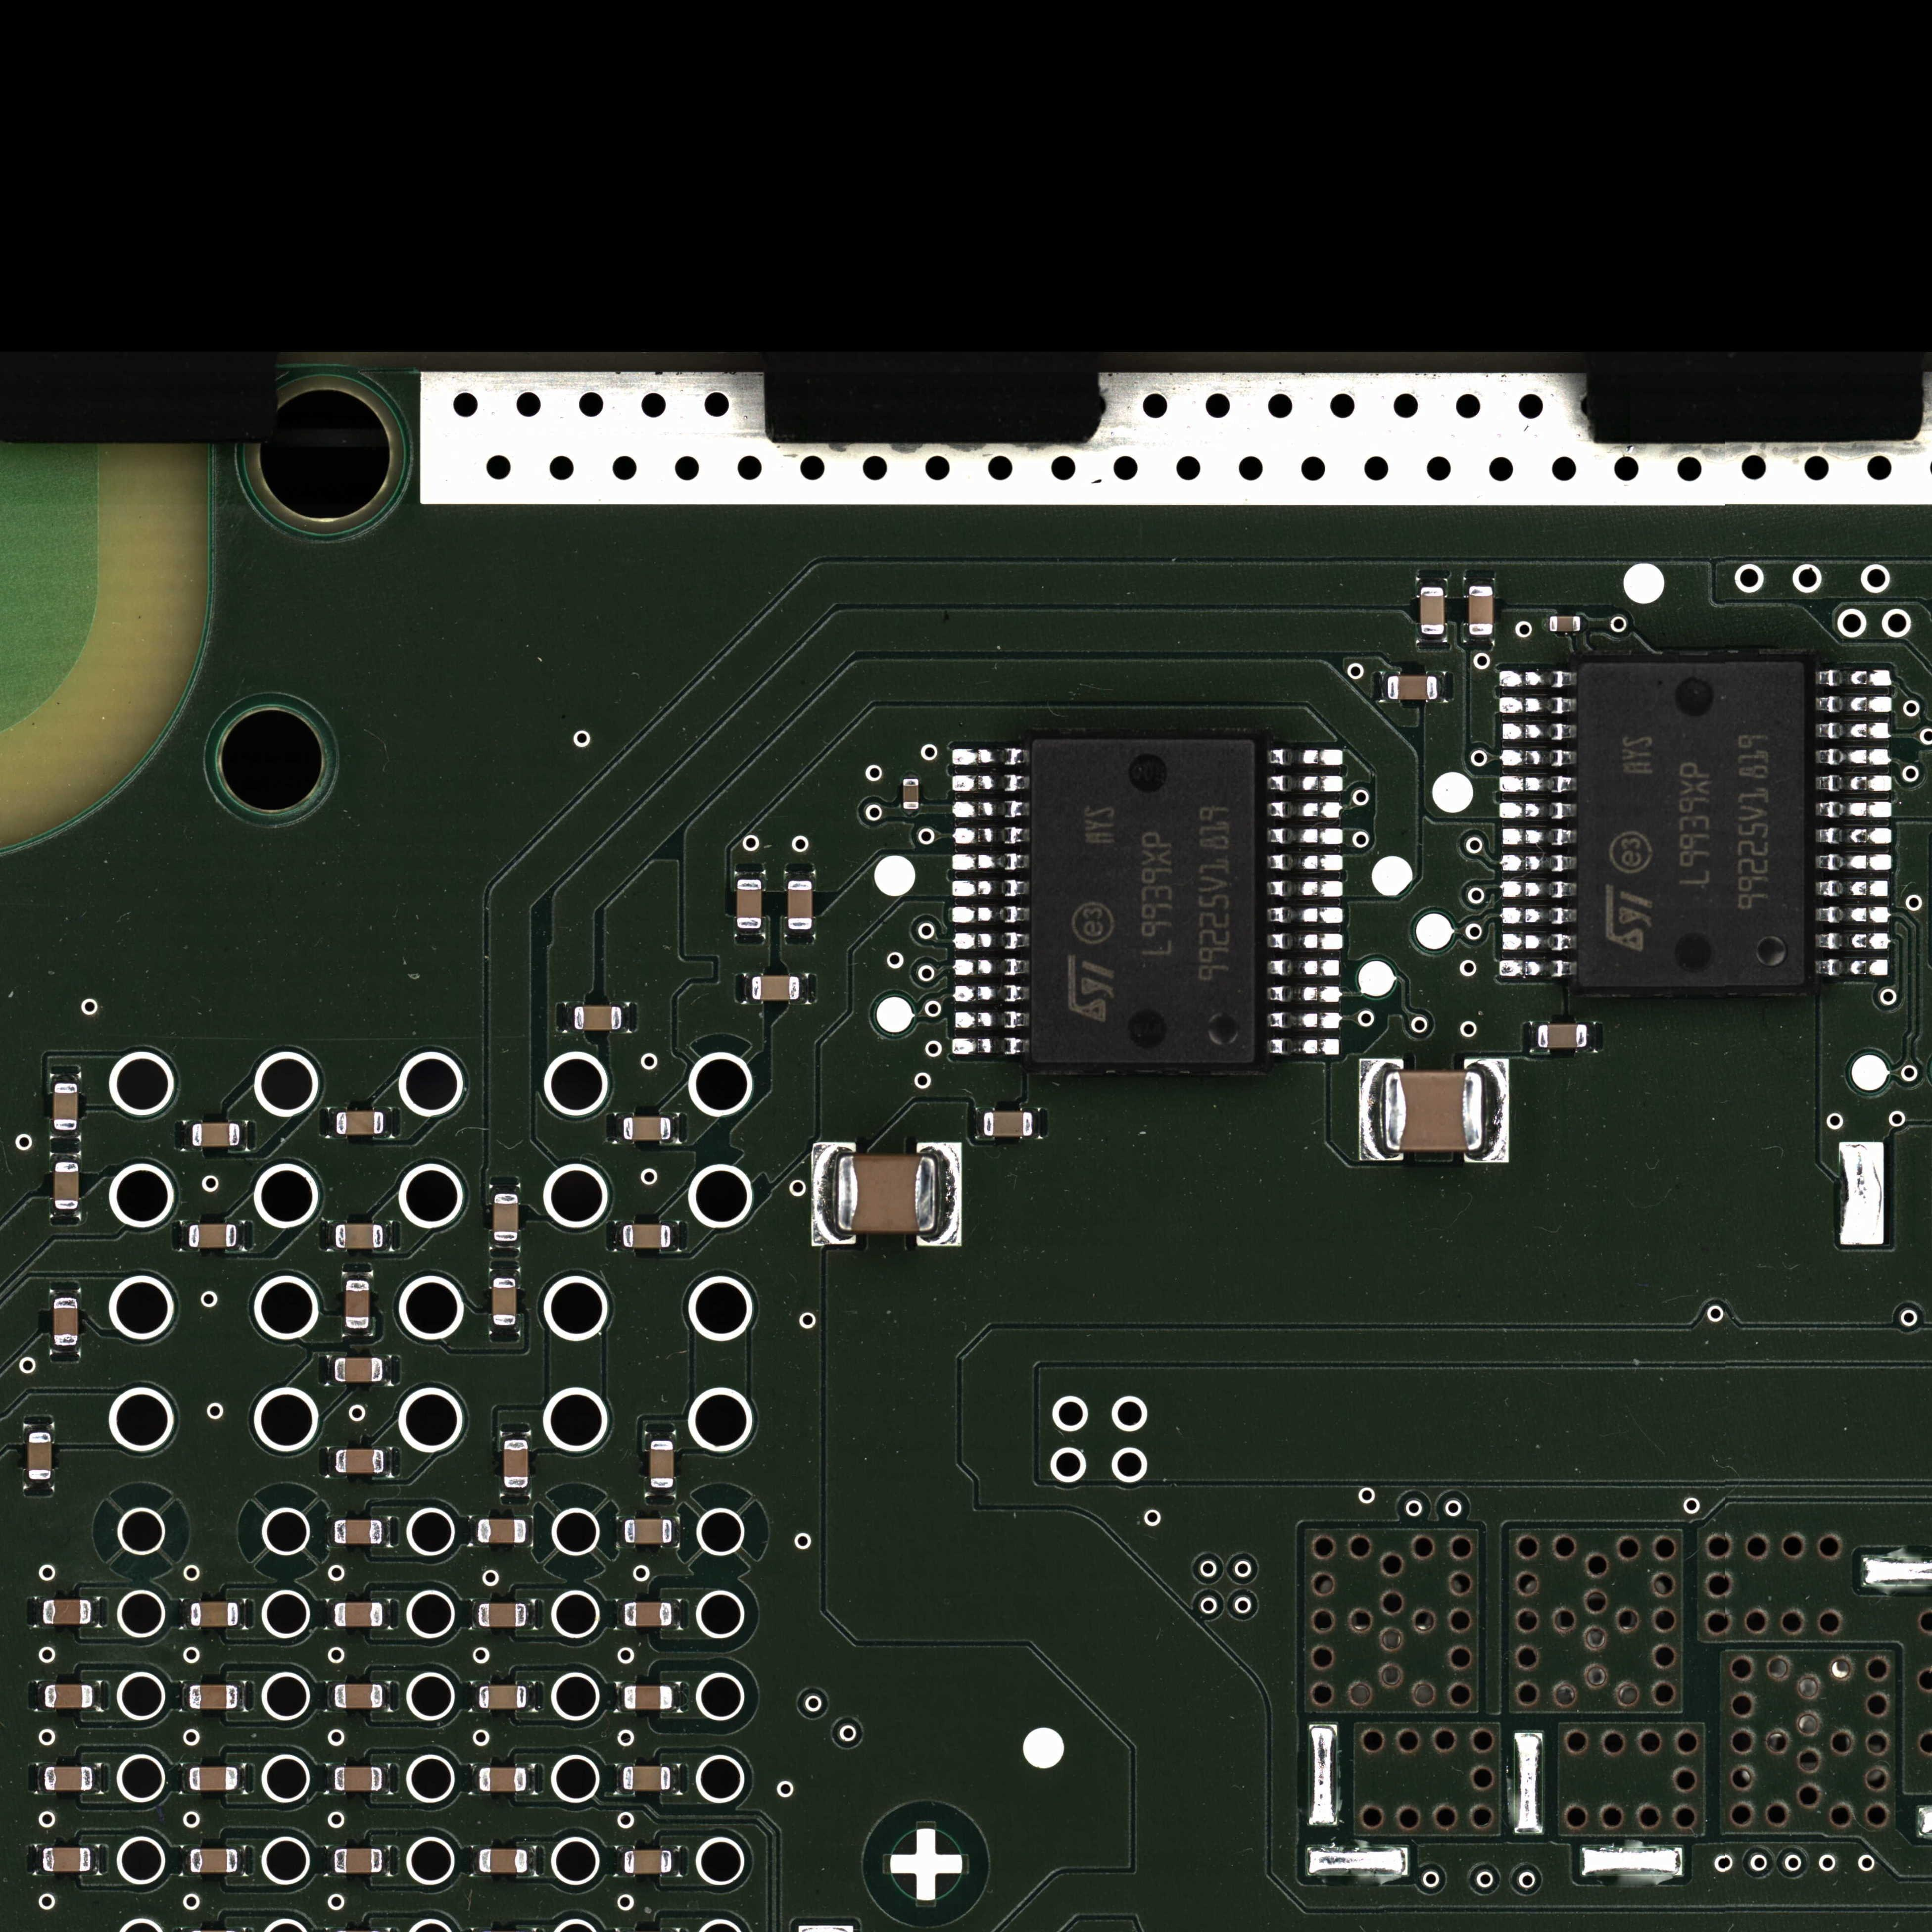Package: (1578, 663, 1805, 985), (1032, 740, 1256, 1064), (1384, 1070, 1484, 1151), (836, 1155, 936, 1232), (736, 879, 762, 928), (787, 880, 813, 929), (983, 1111, 1032, 1137), (1468, 586, 1494, 635), (43, 1599, 91, 1625), (334, 1848, 383, 1874), (335, 1357, 383, 1383), (751, 976, 800, 1001), (44, 1766, 93, 1791), (334, 1602, 383, 1627), (189, 1224, 237, 1249), (345, 1280, 370, 1328), (189, 1685, 238, 1709), (1388, 676, 1437, 700), (1538, 1024, 1587, 1048), (189, 1767, 238, 1791), (574, 1006, 622, 1030), (336, 1449, 384, 1474), (335, 1684, 383, 1709), (624, 1602, 672, 1627), (190, 1602, 238, 1627), (503, 1440, 528, 1488), (478, 1519, 526, 1544), (624, 1686, 673, 1710), (623, 1766, 671, 1791), (492, 1278, 517, 1325), (336, 1224, 383, 1249), (625, 1519, 672, 1544), (53, 1083, 78, 1130), (190, 1848, 238, 1873), (493, 1194, 518, 1241), (334, 1520, 382, 1544), (334, 1767, 382, 1791), (43, 1847, 91, 1872), (623, 1224, 671, 1249), (624, 1850, 672, 1874), (478, 1603, 526, 1627), (479, 1849, 527, 1873), (53, 1298, 78, 1346), (479, 1767, 526, 1792), (54, 1162, 79, 1209), (479, 1685, 527, 1709), (192, 1123, 240, 1147), (1420, 587, 1445, 634), (623, 1117, 671, 1141), (45, 1685, 93, 1708), (336, 1111, 384, 1135), (28, 1432, 51, 1480), (650, 1441, 674, 1488), (1549, 616, 1580, 631), (903, 779, 919, 809)
Solder: (937, 1142, 962, 1247), (1484, 1059, 1509, 1163), (812, 1143, 837, 1246), (1359, 1058, 1384, 1161), (1498, 669, 1576, 689), (1499, 695, 1576, 716), (951, 1036, 1029, 1056), (1498, 959, 1576, 978), (1267, 879, 1344, 899), (951, 905, 1029, 924), (952, 800, 1029, 819), (951, 879, 1029, 898), (952, 826, 1029, 845), (951, 773, 1029, 793), (951, 852, 1029, 871), (1267, 853, 1344, 872), (1267, 826, 1344, 846), (1498, 774, 1576, 794), (952, 747, 1028, 767), (952, 931, 1029, 951), (1267, 774, 1344, 793), (1267, 932, 1344, 951), (1499, 801, 1576, 821), (1815, 853, 1892, 872), (1501, 932, 1576, 952), (1815, 958, 1889, 977), (953, 958, 1029, 977), (953, 984, 1029, 1003), (1267, 748, 1344, 767), (1267, 800, 1343, 820), (1500, 880, 1576, 899), (1815, 721, 1891, 740), (1500, 906, 1576, 925), (1500, 854, 1576, 873), (1500, 748, 1576, 768), (1815, 931, 1890, 951), (1267, 906, 1344, 924), (1501, 722, 1576, 741), (1815, 695, 1892, 714), (1815, 774, 1892, 793), (1815, 905, 1890, 924), (1816, 826, 1892, 845), (1816, 800, 1892, 819), (1501, 827, 1576, 847), (1816, 669, 1892, 687), (953, 1011, 1029, 1029), (1267, 985, 1343, 1004), (1267, 1011, 1343, 1030), (1816, 879, 1889, 898), (1267, 958, 1341, 977), (1815, 748, 1891, 766), (1268, 1037, 1340, 1057), (50, 1073, 82, 1083), (784, 870, 816, 880), (50, 1152, 81, 1162), (488, 1184, 521, 1194), (489, 1268, 521, 1278), (644, 1431, 676, 1440), (1416, 578, 1448, 587), (800, 973, 809, 1004), (182, 1120, 192, 1151), (181, 1598, 190, 1629), (488, 1325, 521, 1334), (500, 1488, 531, 1497), (974, 1108, 983, 1139), (671, 1763, 680, 1795), (1438, 671, 1447, 703), (1588, 1021, 1596, 1053), (23, 1423, 54, 1432), (327, 1107, 336, 1138), (384, 1220, 392, 1252), (565, 1002, 574, 1033), (383, 1355, 392, 1386), (469, 1516, 478, 1546), (92, 1596, 100, 1627), (614, 1113, 623, 1144), (645, 1488, 676, 1497), (528, 1845, 536, 1876), (672, 1599, 681, 1630), (49, 1130, 82, 1139), (49, 1289, 81, 1298), (384, 1107, 392, 1139), (489, 1241, 521, 1250), (1416, 634, 1448, 643), (1463, 577, 1496, 585), (342, 1329, 374, 1337), (499, 1431, 531, 1440), (734, 871, 766, 879), (671, 1112, 679, 1144), (1379, 671, 1387, 703), (1033, 1108, 1041, 1139), (342, 1271, 373, 1280), (327, 1220, 335, 1252), (180, 1220, 189, 1252), (34, 1596, 43, 1628), (383, 1516, 391, 1547), (326, 1355, 335, 1386), (383, 1845, 391, 1876), (93, 1763, 101, 1793), (383, 1763, 391, 1794), (181, 1763, 189, 1794), (181, 1845, 190, 1876), (181, 1681, 189, 1712), (325, 1846, 334, 1877), (238, 1763, 246, 1794), (23, 1480, 54, 1489), (91, 1844, 99, 1875), (238, 1681, 246, 1711), (614, 1220, 623, 1251), (527, 1764, 535, 1794), (672, 1846, 680, 1877), (527, 1681, 535, 1712), (527, 1599, 535, 1630), (1529, 1021, 1538, 1052), (1463, 635, 1495, 643), (327, 1447, 335, 1477), (326, 1764, 334, 1794), (470, 1682, 479, 1712), (326, 1681, 334, 1711), (93, 1681, 101, 1711), (238, 1845, 246, 1876), (470, 1764, 479, 1794), (615, 1846, 624, 1876), (239, 1598, 246, 1630), (734, 929, 766, 937), (671, 1220, 679, 1252), (326, 1599, 334, 1629), (240, 1120, 248, 1151), (50, 1209, 81, 1217), (385, 1447, 392, 1478), (383, 1598, 391, 1630), (383, 1681, 391, 1712), (622, 1002, 630, 1033), (50, 1346, 81, 1354), (237, 1220, 245, 1251), (35, 1844, 43, 1875), (37, 1681, 45, 1711), (471, 1846, 479, 1877), (743, 973, 751, 1004), (616, 1516, 624, 1547), (672, 1516, 680, 1547), (326, 1516, 334, 1546), (616, 1682, 624, 1712), (616, 1599, 624, 1629), (673, 1682, 680, 1712), (783, 930, 816, 937), (37, 1763, 44, 1794), (615, 1764, 623, 1794), (471, 1600, 478, 1630), (527, 1516, 533, 1546), (902, 771, 919, 778), (1581, 616, 1588, 632), (902, 810, 919, 817), (1543, 616, 1549, 631)
